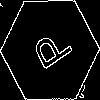P: (25, 25, 74, 77)
